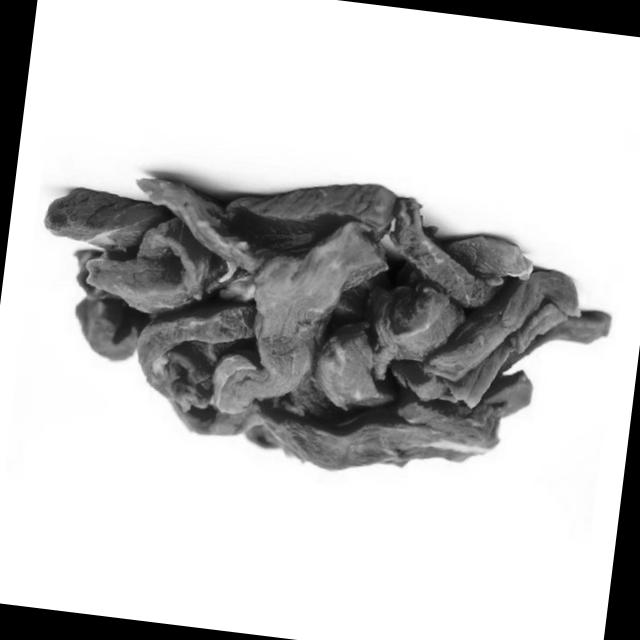thit mieng: (17, 144, 627, 506)
